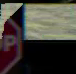Stop: (0, 2, 27, 73)
